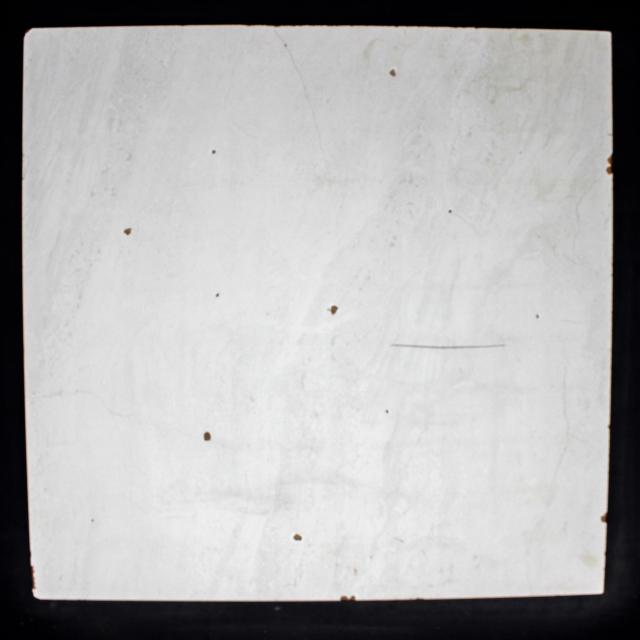edge-chipping: (605, 154, 613, 175), (31, 566, 36, 590), (340, 595, 355, 601), (23, 28, 32, 38), (601, 512, 607, 524)
hole: (203, 431, 211, 442), (330, 305, 338, 315), (293, 534, 302, 541), (389, 69, 396, 77), (124, 228, 131, 236), (211, 149, 217, 155), (384, 409, 389, 414), (215, 293, 220, 298), (536, 314, 540, 319), (448, 210, 452, 213)
line: (274, 29, 322, 150), (390, 343, 505, 349)
